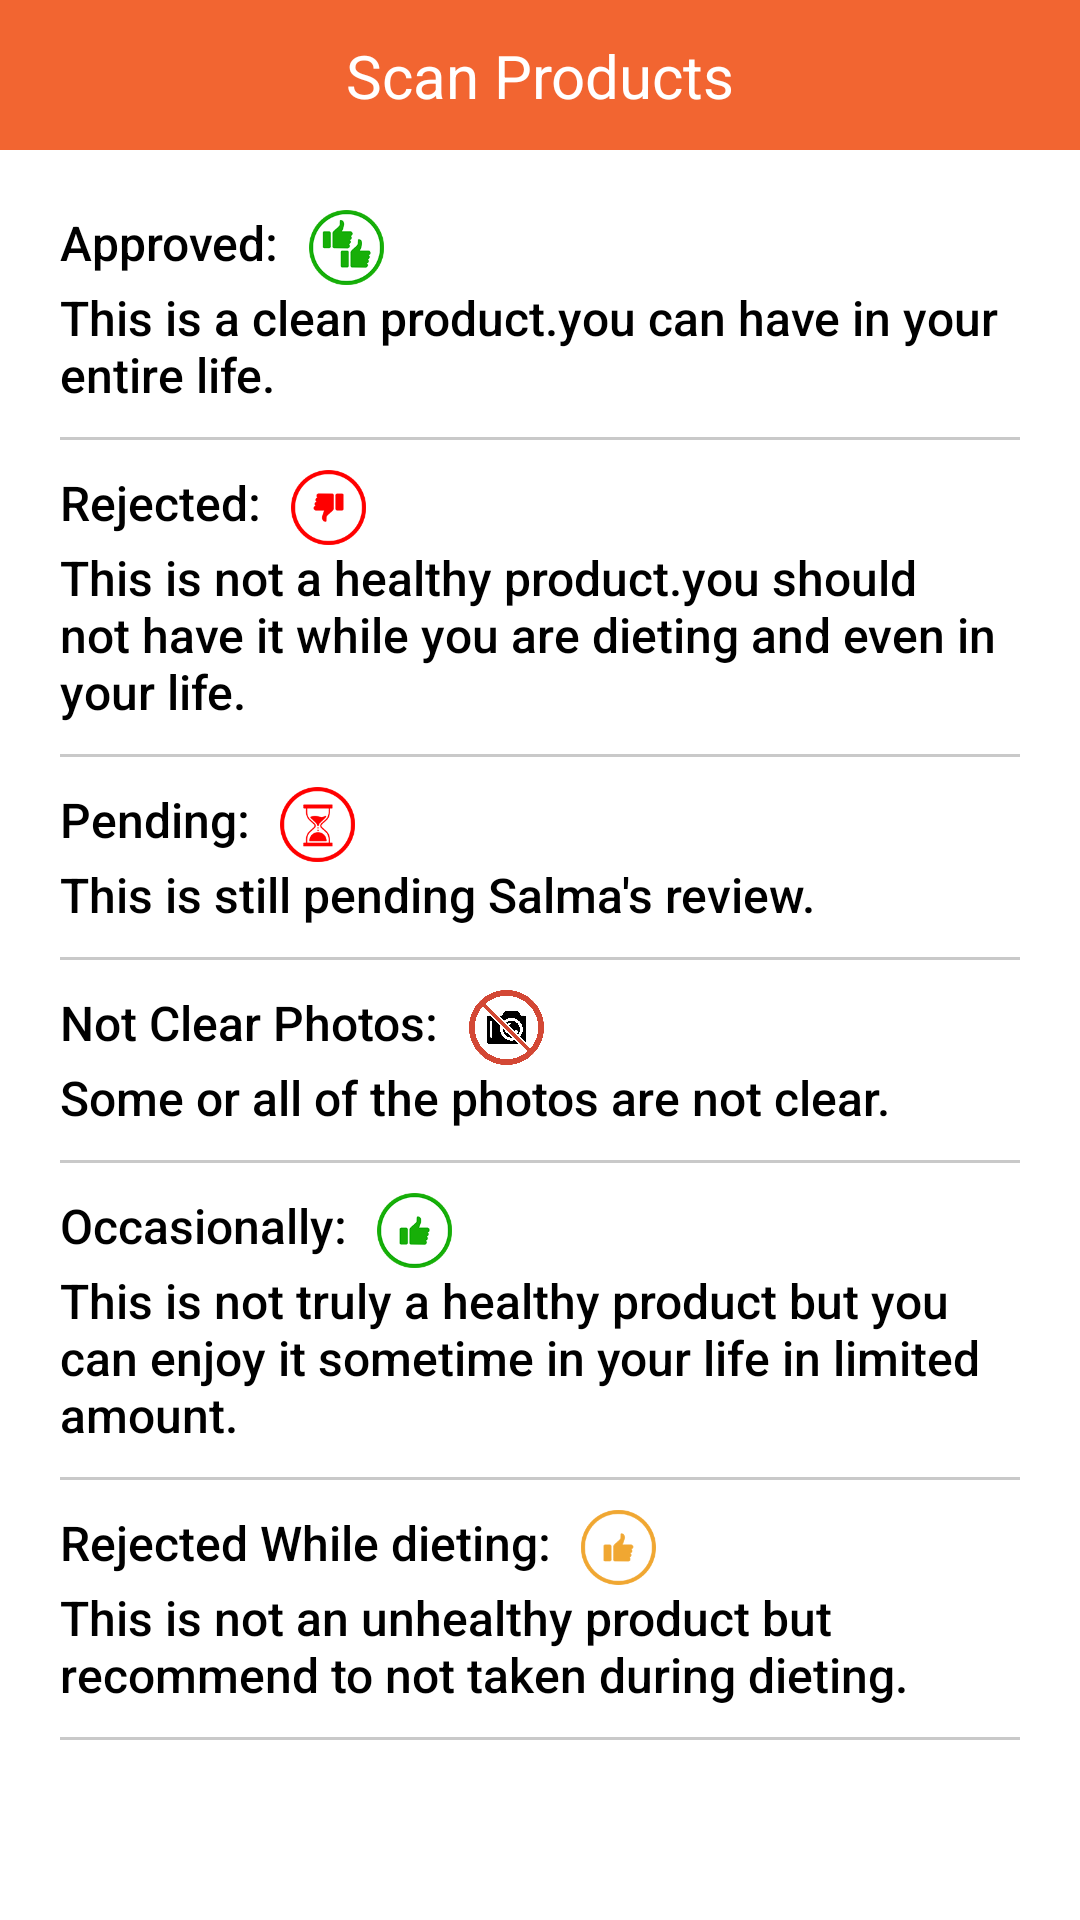

Where to tap for icons on this 1080px×1920px app screen, as (x=x, y=y):
doubleup: (x=346, y=247)
singledown: (x=328, y=507)
singleup: (x=414, y=1230)
